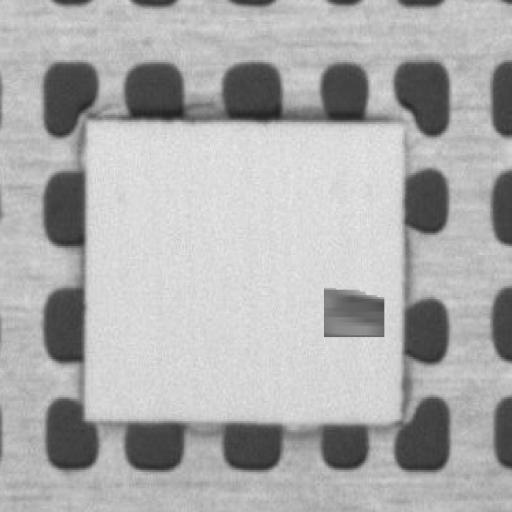DIE_INK: (428, 212, 508, 252)
